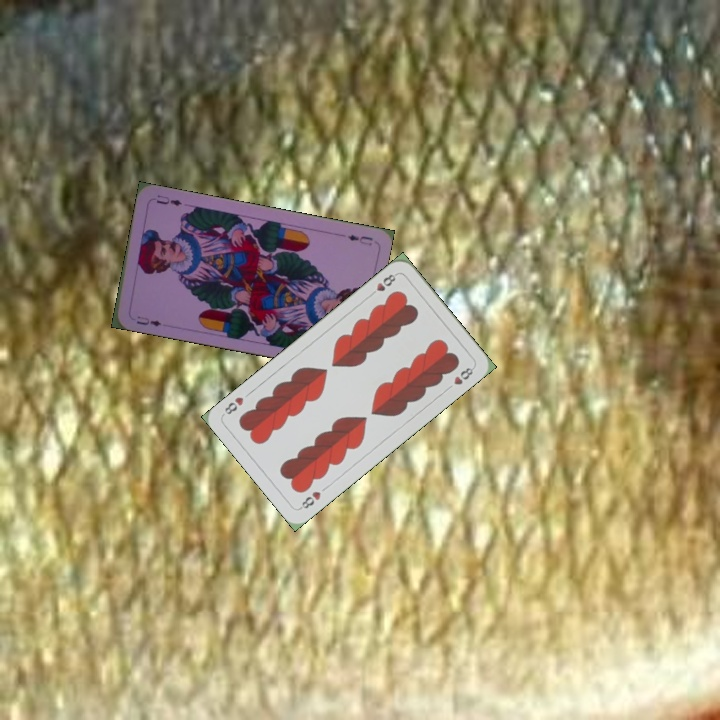EU: (132, 312, 164, 329), (343, 231, 375, 248)
H8: (365, 269, 400, 299), (296, 487, 324, 512)
